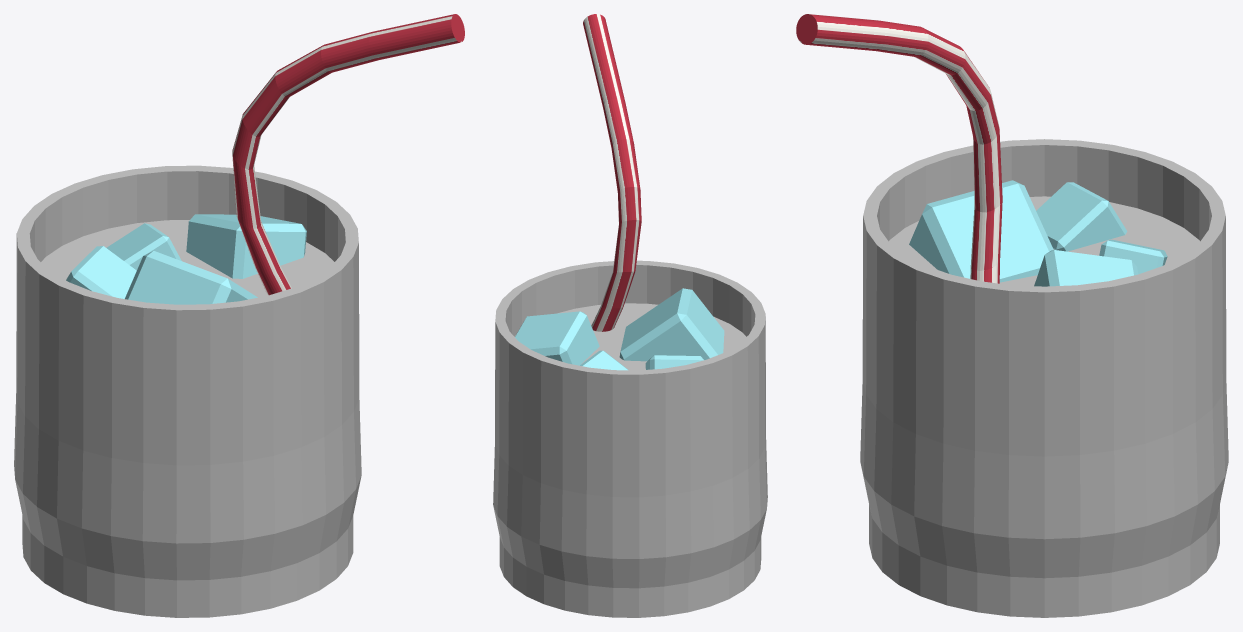
Rendered from batido.fbx.
The picture shows the model from 3 angles, left to right: view 1: azimuth 30°, elevation 25°; view 2: azimuth 150°, elevation 25°; view 3: azimuth 270°, elevation 25°; orthographic projection. The views are drawn at different scales.
Visible parts, largest first — view 1: Cylinder, Cylinder.001, Cube, Cube.001, Cube.002, Cube.003; view 2: Cylinder, Cylinder.001, Cube.001, Cube, Cube.002, Cube.003; view 3: Cylinder, Cylinder.001, Cube.001, Cube.002, Cube, Cube.003.
Part boxes in pixels (<box>): Cylinder: <box>14,165,361,617</box>; Cylinder.001: <box>232,14,464,295</box>; Cube: <box>186,214,306,278</box>; Cube.001: <box>125,250,257,304</box>; Cube.002: <box>66,246,136,298</box>; Cube.003: <box>106,223,181,270</box>; Cylinder: <box>493,260,767,617</box>; Cylinder.001: <box>583,14,641,331</box>; Cube.001: <box>619,288,724,361</box>; Cube: <box>515,311,599,365</box>; Cube.002: <box>645,355,703,369</box>; Cube.003: <box>580,350,628,370</box>; Cylinder: <box>860,139,1228,617</box>; Cylinder.001: <box>796,14,1002,283</box>; Cube.001: <box>909,180,1053,282</box>; Cube.002: <box>1036,182,1127,251</box>; Cube: <box>1034,250,1138,286</box>; Cube.003: <box>1099,239,1167,274</box>.
Bounding box in the file's own units: 215 × 371 × 239.
